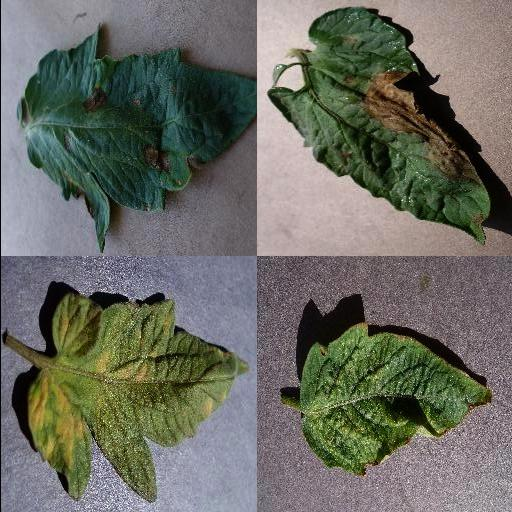Early Blight: (15, 24, 255, 254)
Late Blight: (268, 7, 490, 247)
Leaf Mold: (25, 291, 251, 502)
Spider Mites: (301, 324, 495, 478)
